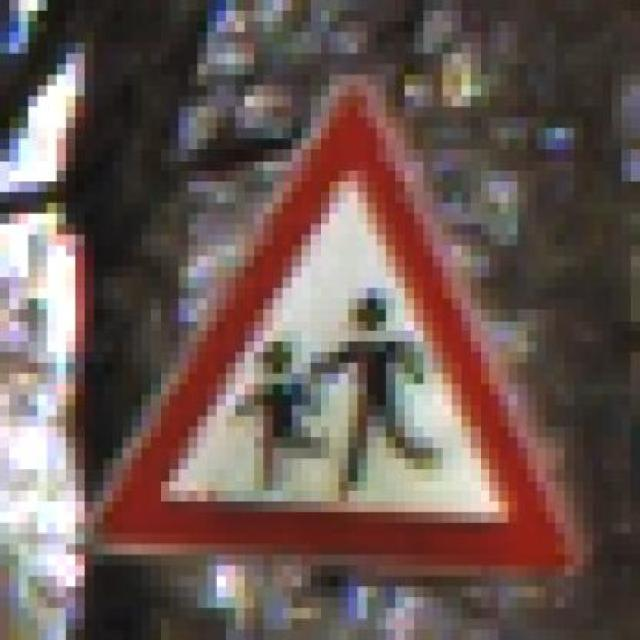Beware of children: (65, 64, 593, 587)
